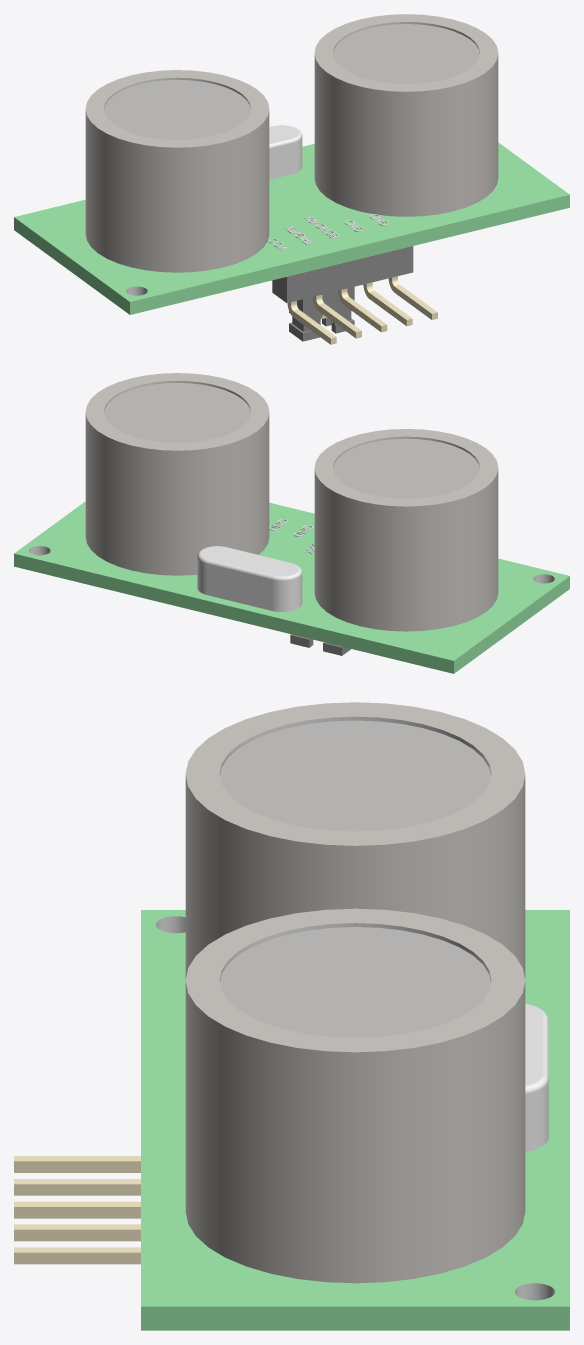
Rendered from sonar.dae.
3 renders of one model, top to bottom at view 1: azimuth 30°, elevation 25°; view 2: azimuth 150°, elevation 25°; view 3: azimuth 270°, elevation 25°, orthographic. The views are drawn at different scales.
Parts seen in each view (by area): view 1: sonar_sensor; view 2: sonar_sensor; view 3: sonar_sensor.
Part boxes in pixels (<box>): sonar_sensor: <box>14,14,569,344</box>; sonar_sensor: <box>14,373,569,673</box>; sonar_sensor: <box>14,702,569,1330</box>.
Size of the model in its own units: 44.2 by 26.18 by 21.79.
